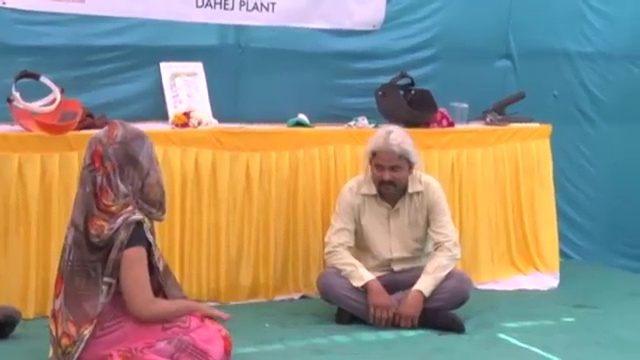helmet_off: (80, 127, 168, 222), (365, 127, 416, 196)
person: (46, 120, 234, 360), (314, 123, 474, 334)
